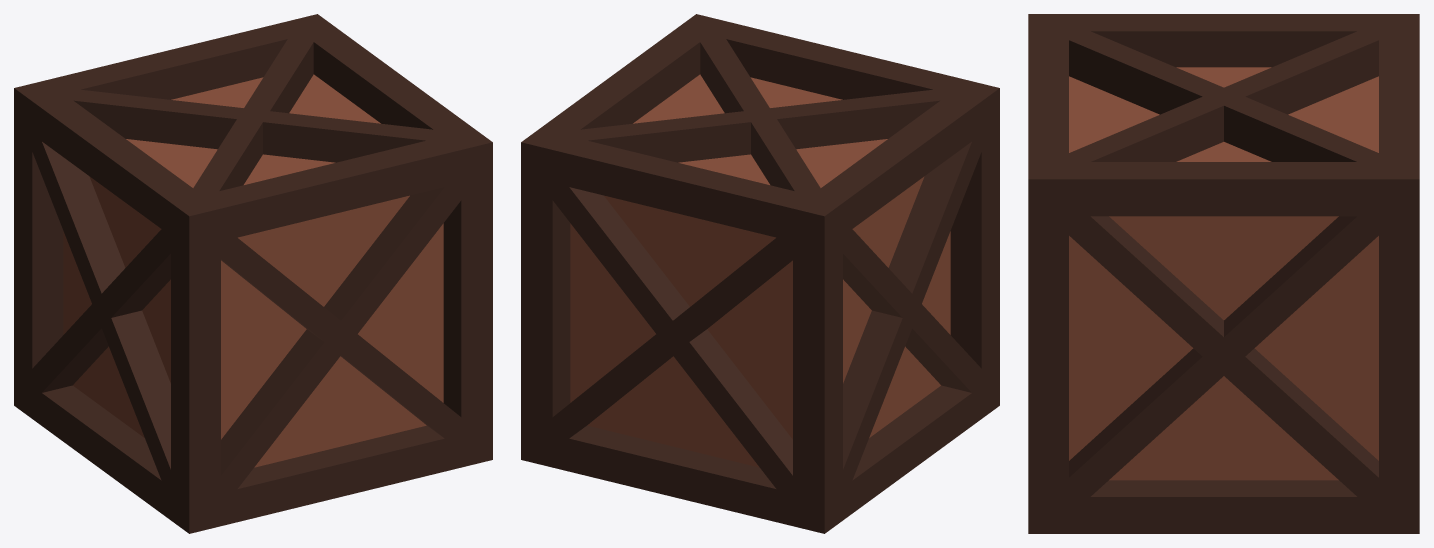
Rendered from Cargo.glb.
3 views of the same model, side by side, from view 1: azimuth 30°, elevation 25°; view 2: azimuth 150°, elevation 25°; view 3: azimuth 270°, elevation 25° (orthographic). The views are drawn at different scales.
Parts seen in each view (by area): view 1: Cube; view 2: Cube; view 3: Cube.
Part boxes in pixels (x1,y1,x2,y2): Cube: [14, 14, 492, 533]; Cube: [521, 14, 999, 533]; Cube: [1028, 14, 1419, 533].
Bounding box in the file's own units: 2 × 2 × 2.
